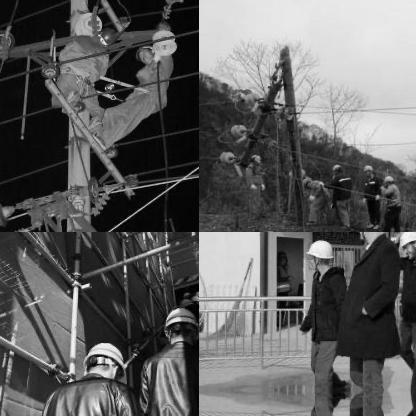Helmet: (83, 336, 127, 384), (157, 305, 198, 352), (307, 235, 333, 268), (132, 40, 156, 64), (92, 26, 115, 48), (398, 232, 415, 255), (351, 232, 388, 242), (359, 159, 373, 177), (328, 160, 342, 176), (249, 151, 262, 165), (380, 172, 394, 184), (190, 294, 198, 305)
